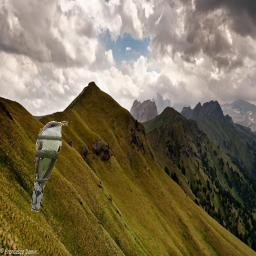Cuckoo: (31, 121, 68, 212)
